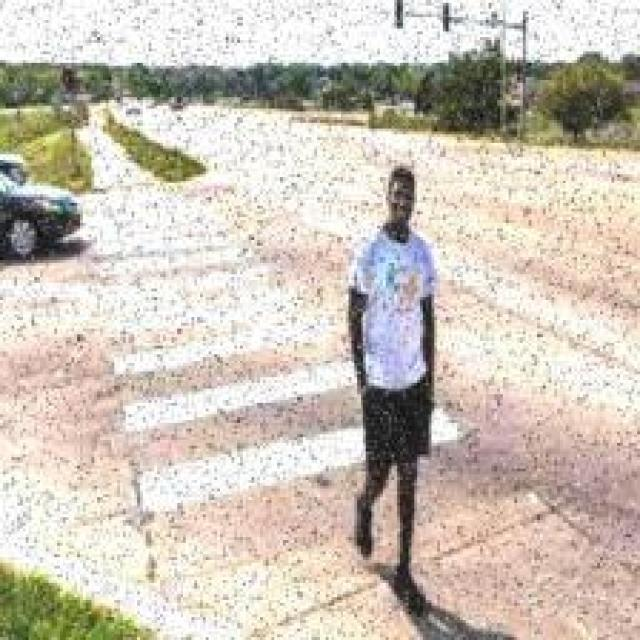crosswalk: (82, 193, 464, 511)
